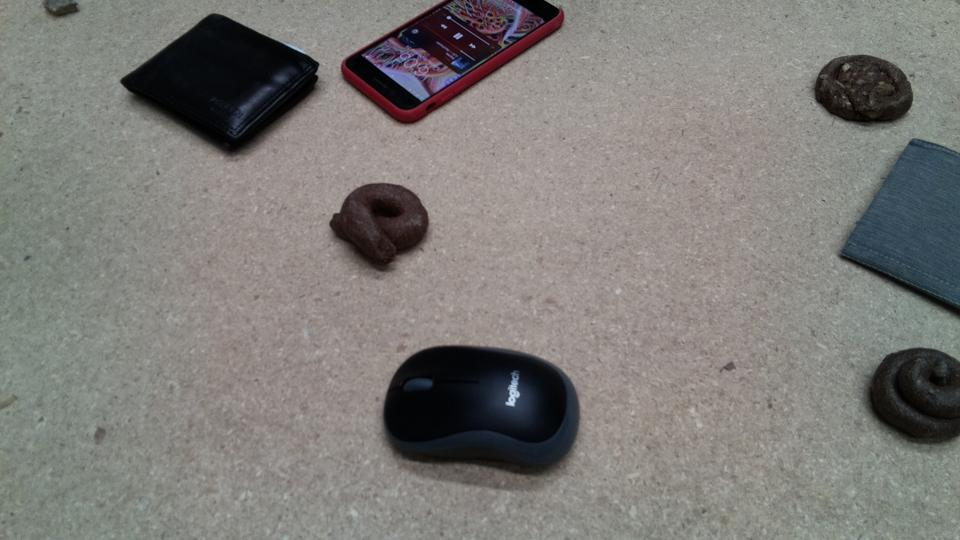poop: (327, 180, 433, 271), (868, 346, 960, 449), (812, 52, 916, 126)
